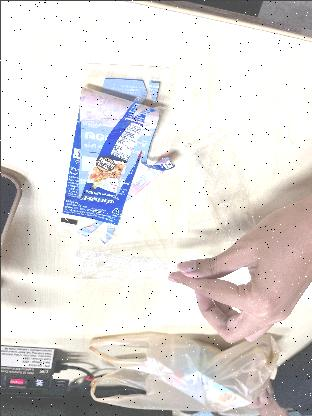Others: (50, 55, 171, 233), (182, 128, 249, 224), (71, 244, 197, 292)
